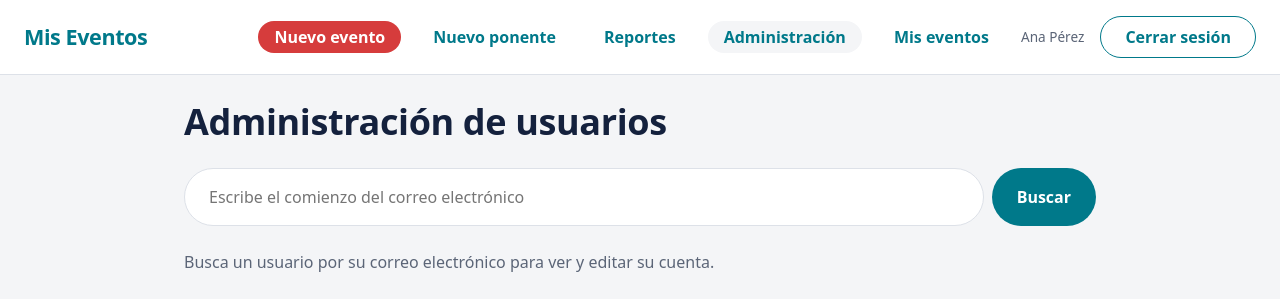
AdminUsersPage search › shows a spinner while the users load
In the search field named "Correo electrónico del usuario": (584, 197) [184,168,984,226], type "b"
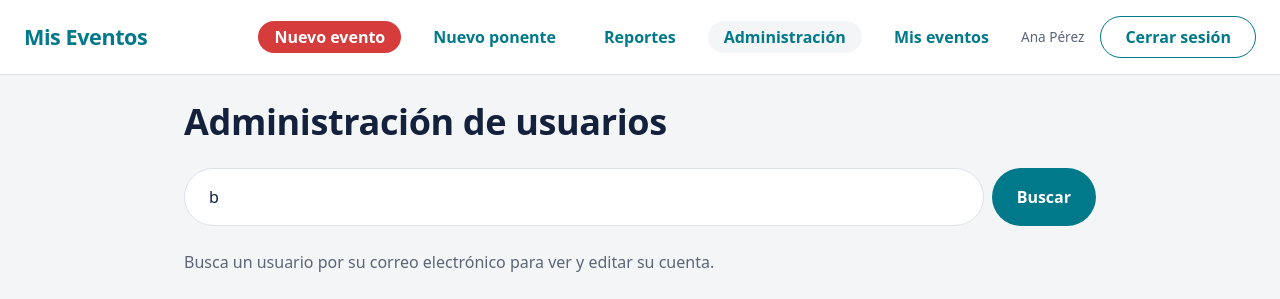
Click the button "Buscar": (1044, 197) [992,168,1096,226]
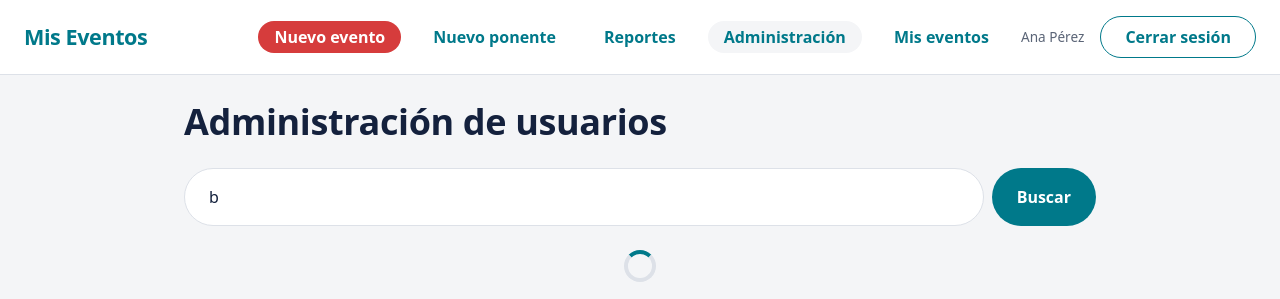
Result: the message named "Cargando..." is shown at [624,250,656,282]
